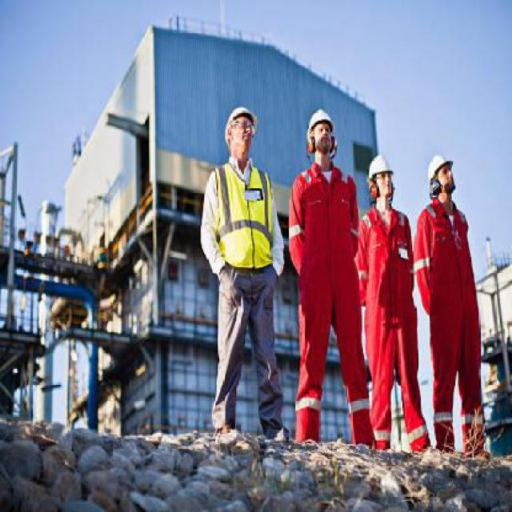glass: (226, 116, 256, 137)
hardhat: (425, 150, 456, 181), (363, 153, 397, 180), (304, 105, 338, 130)
person: (190, 100, 297, 461), (279, 100, 375, 458), (412, 137, 496, 470), (357, 149, 421, 463)
vest: (210, 162, 276, 274)
